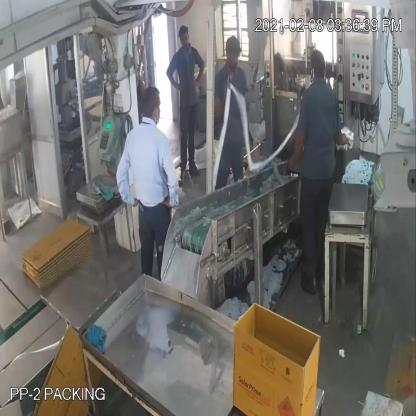no_glove: (157, 140, 179, 210), (285, 112, 307, 179), (117, 142, 138, 212), (168, 56, 182, 97), (193, 51, 206, 88)
